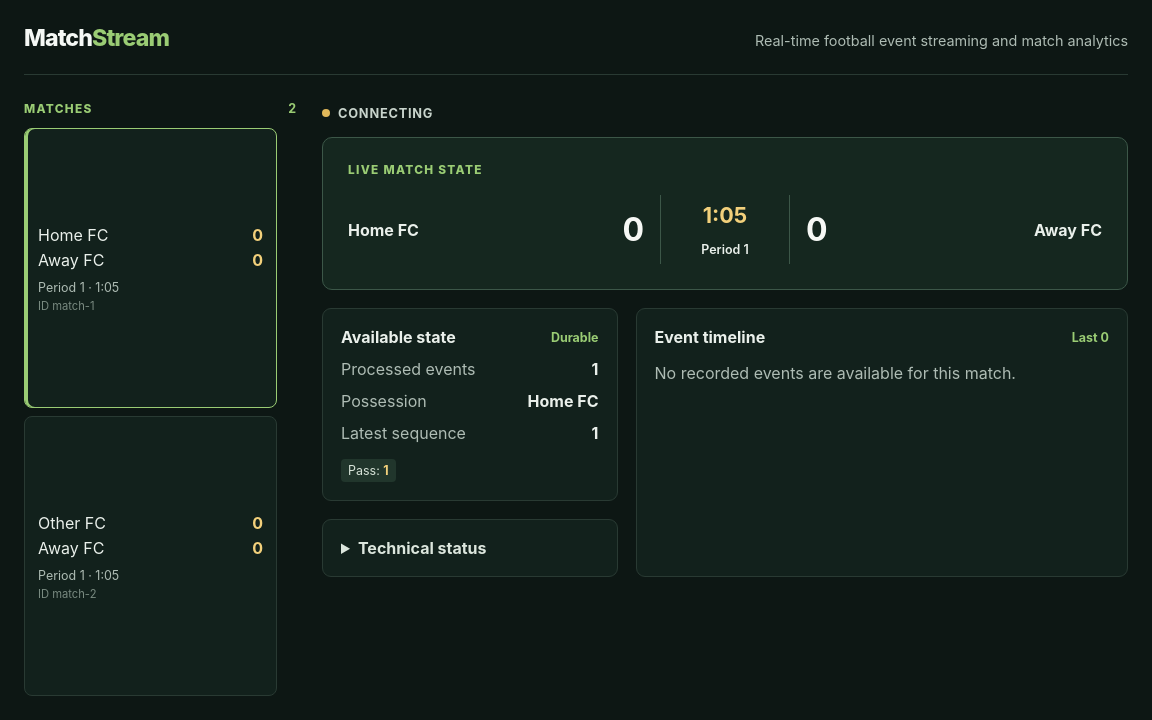
Test: dashboard › lists matches and switches the durable match view
Expected: the button "Home FC 0 Away FC 0 Period 1 · 1:05 ID match-1" is shown, [24,128,277,408]
Expected: the text "ID match-1" is shown, [38,299,95,313]
What coordinates should you click on to do the following:
click the button "Other FC 0 Away FC 0 Period 1 · 1:05 ID match-2"
I would click on:
 (150, 556)
Its box is [24,416,277,696].
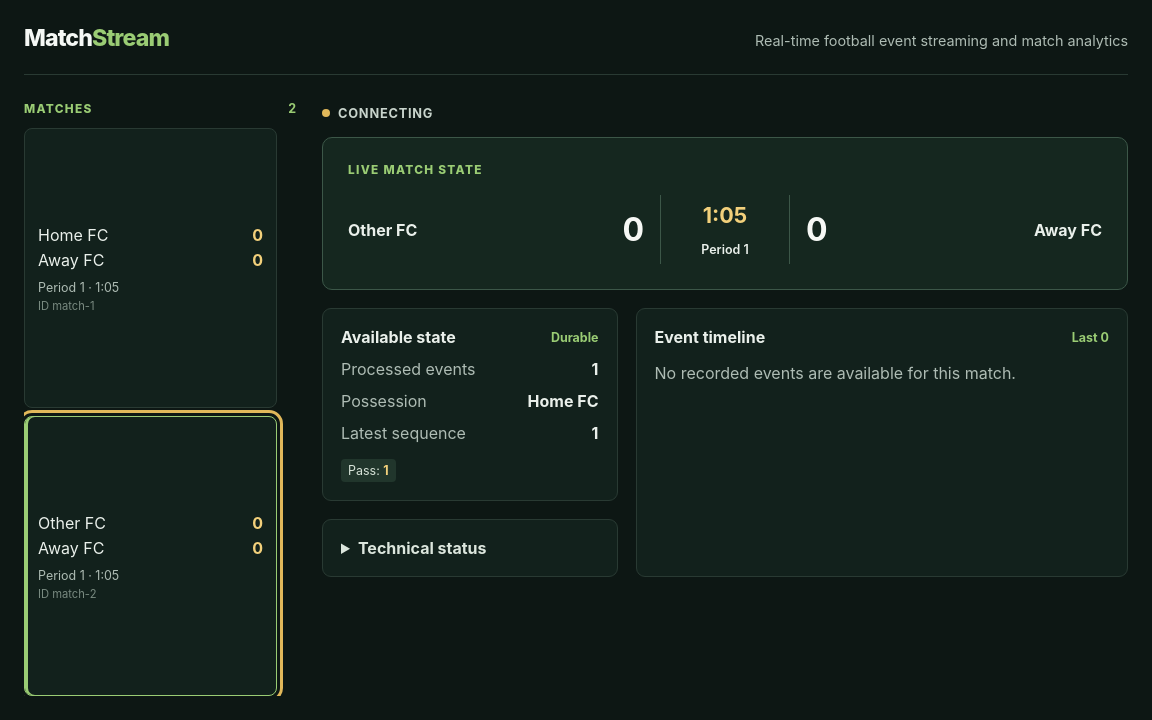
Expected: the text "Other FC" is shown, [348,220,417,240]
